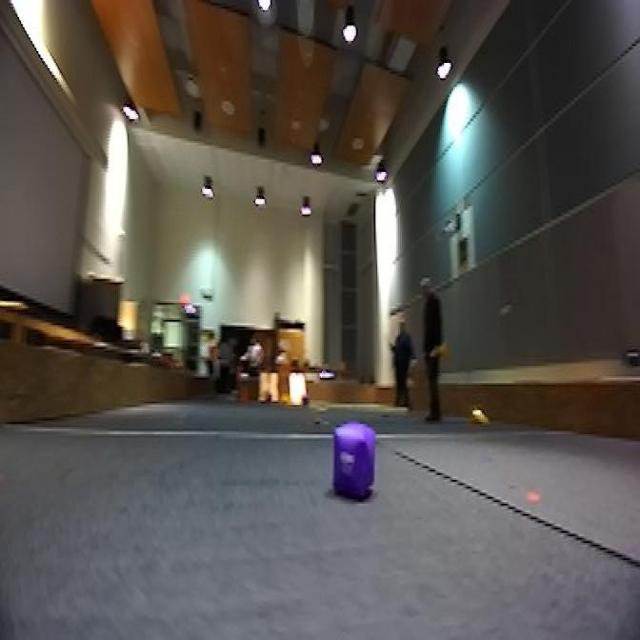frc_cone: (468, 397, 490, 427), (272, 390, 294, 407), (431, 340, 448, 361)
frc_cube: (332, 419, 376, 504), (260, 390, 274, 407), (301, 392, 313, 408)
